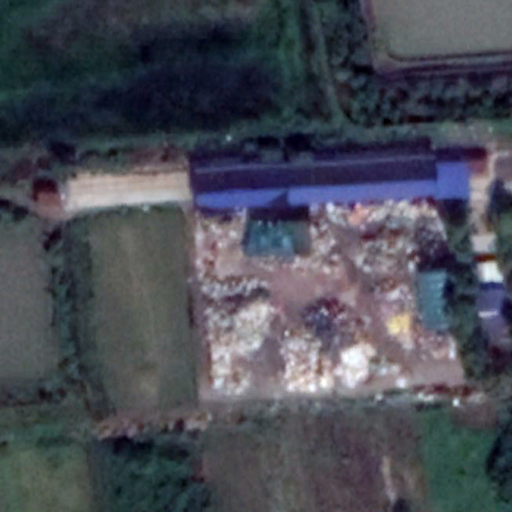msw: (188, 202, 454, 389)
